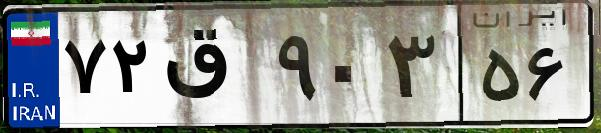0: (330, 28, 385, 110)
2: (110, 28, 158, 98)
3: (385, 28, 445, 110)
5: (475, 38, 525, 113)
6: (525, 38, 570, 115)
7: (57, 26, 110, 100)
9: (270, 28, 330, 110)
ق: (158, 20, 270, 120)
